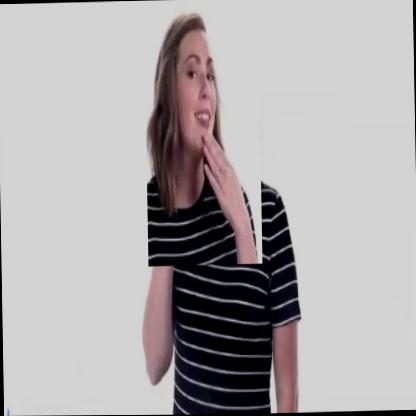ThankYou: (143, 0, 262, 266)
